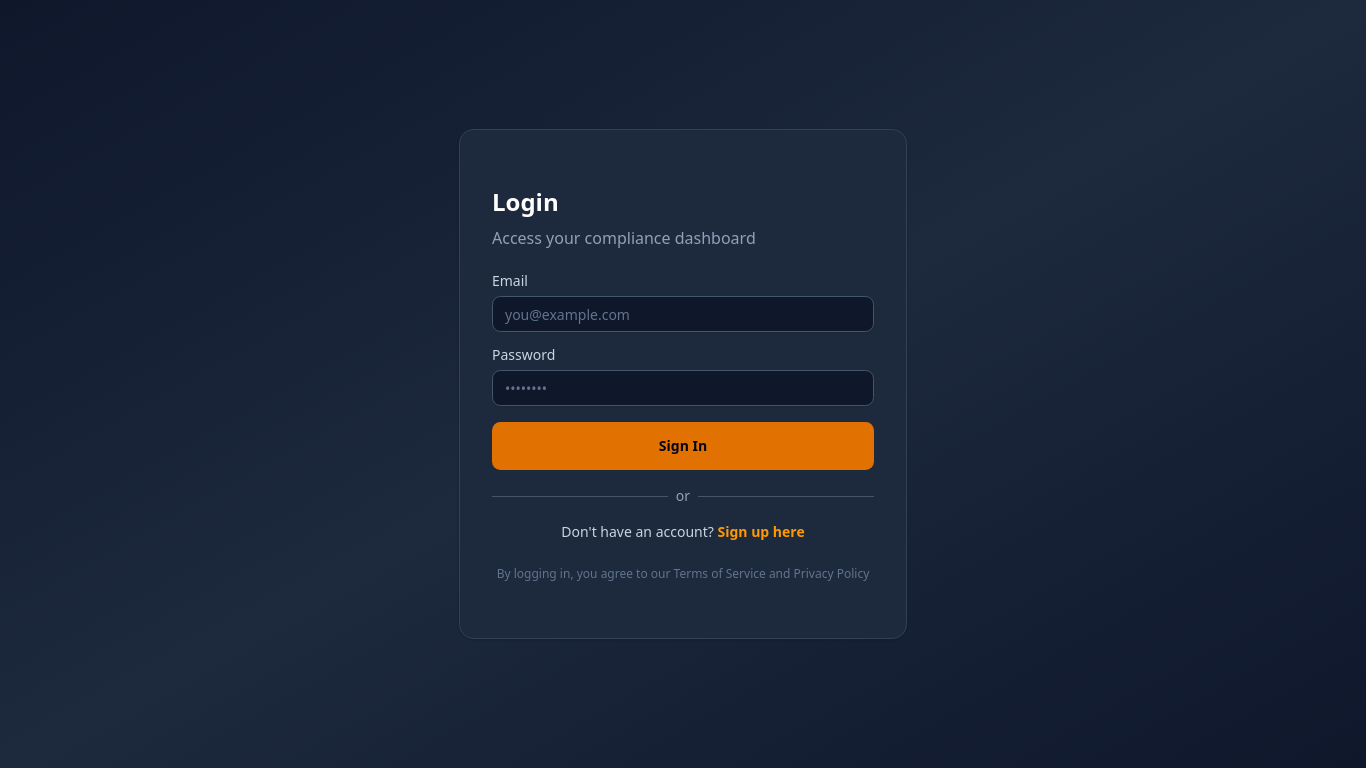
Test: A11Y-02: auth forms › Login › announces a failed sign-in as a status message (3.3.1 / 4.1.3)
Type "nobody@example.com" into the field labelled "Email" at (683, 314), box [492, 296, 874, 332]
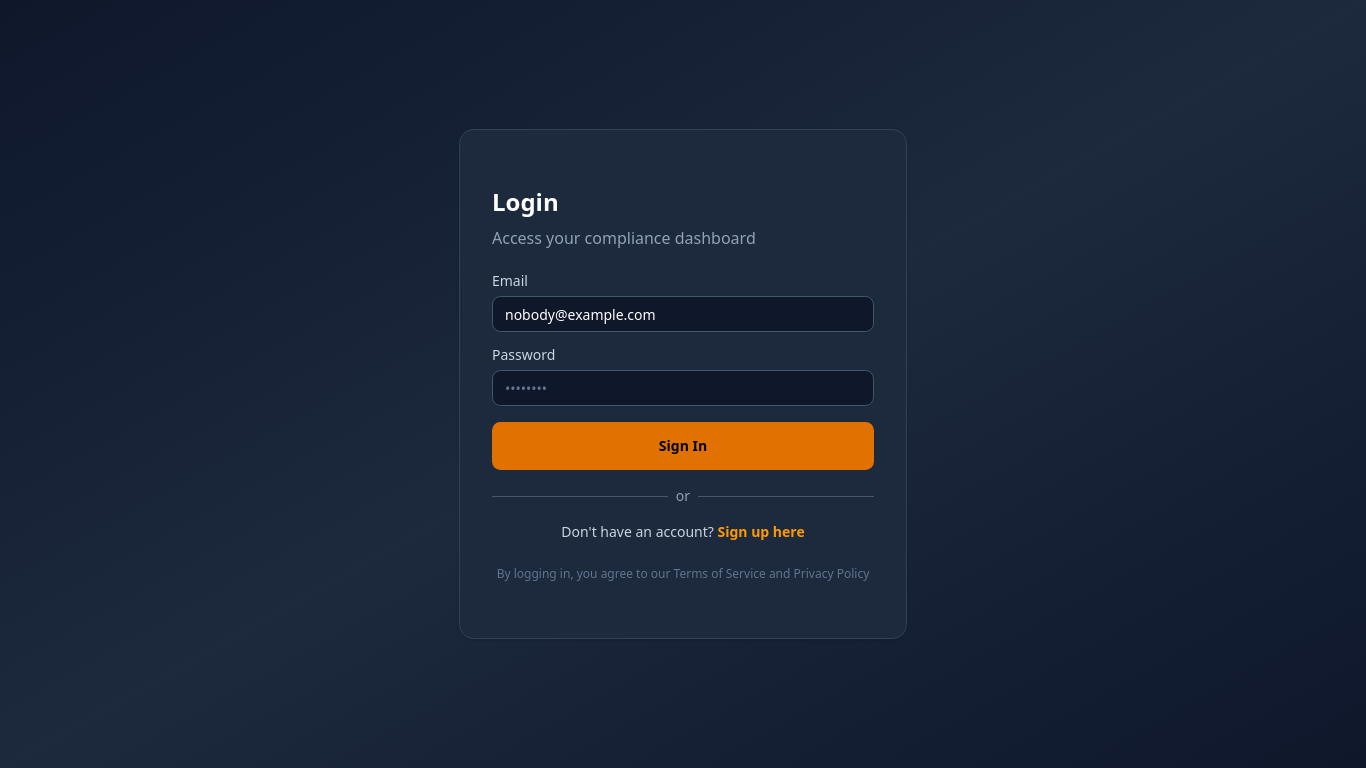
Type "wrongpassword" into the password field labelled "Password" at (683, 388), box [492, 370, 874, 406]
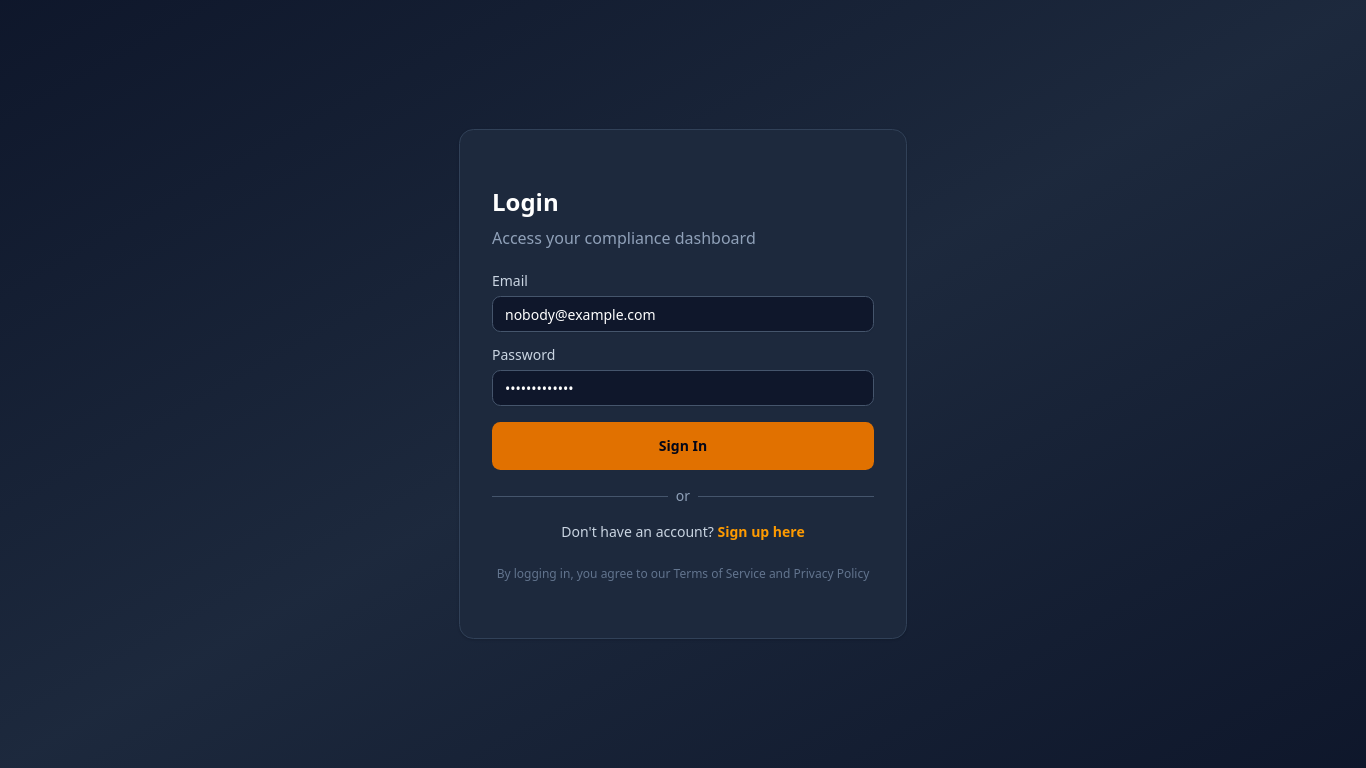
Click the button "Sign In" at (683, 446), box [492, 422, 874, 470]
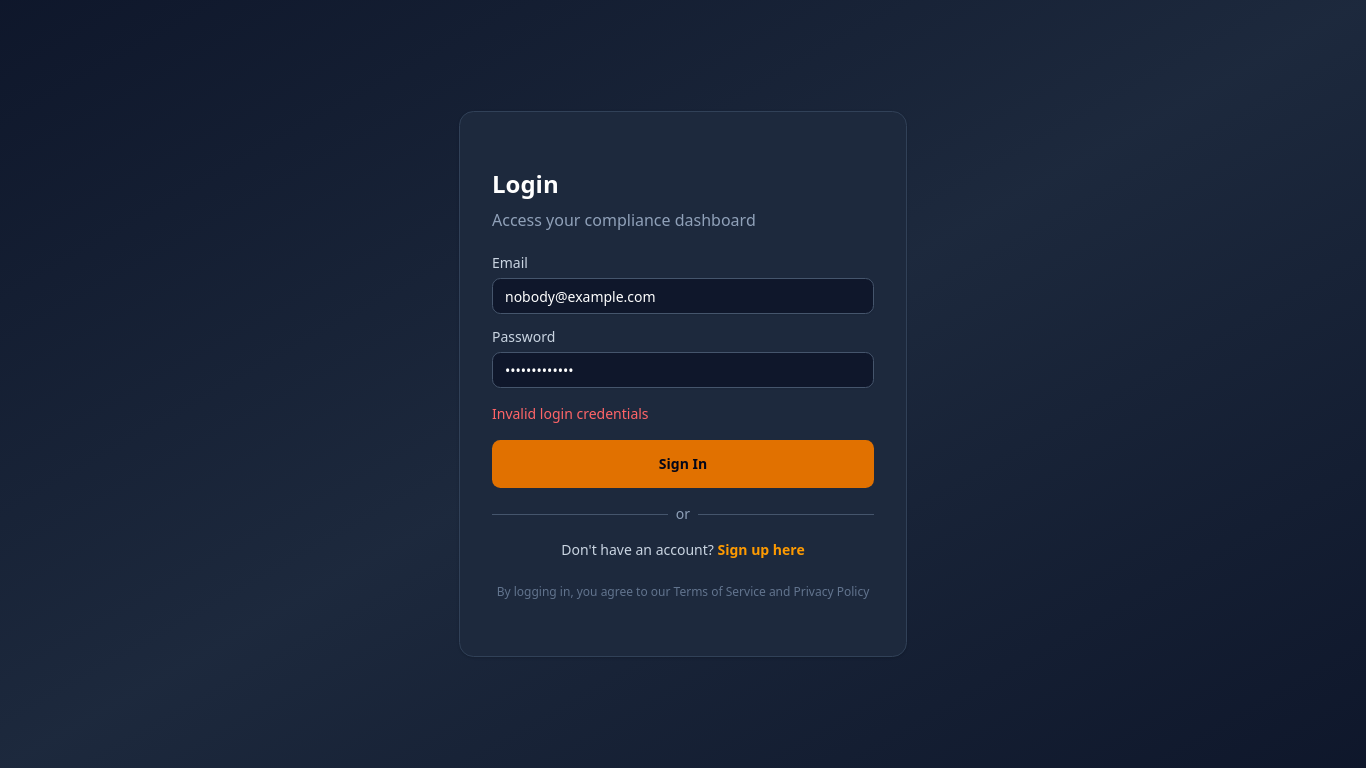
Check: the message reads "Invalid login credentials", box [492, 404, 649, 423]
